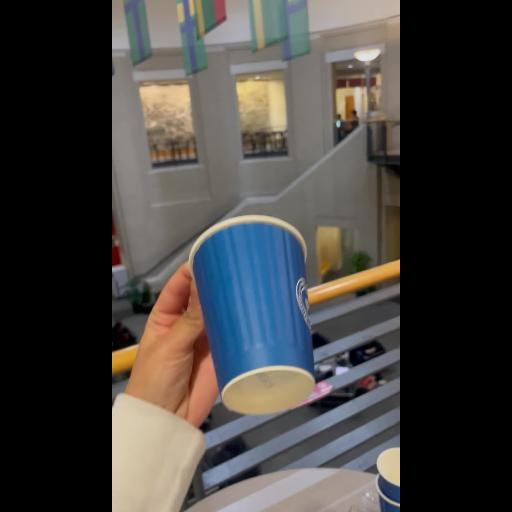lp_paper_cup: (183, 213, 319, 417)
